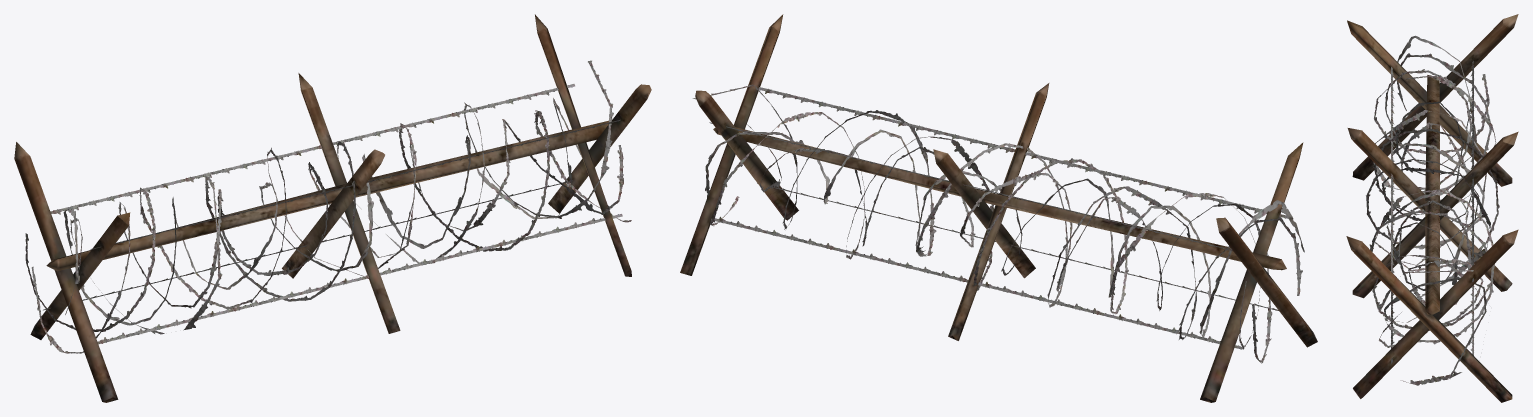
File: barbed-barrier.lod1.glb
The picture shows the model from 3 angles, left to right: view 1: azimuth 30°, elevation 25°; view 2: azimuth 150°, elevation 25°; view 3: azimuth 270°, elevation 25°; orthographic projection. The views are drawn at different scales.
Parts seen in each view (by area): view 1: object_0_object_0_0; view 2: object_0_object_0_0; view 3: object_0_object_0_0.
Boxes of the visible parts, x1=… form: object_0_object_0_0: x1=14, y1=14, x2=651, y2=402; object_0_object_0_0: x1=680, y1=14, x2=1317, y2=402; object_0_object_0_0: x1=1346, y1=14, x2=1518, y2=402.
Bounding box in the file's own units: 5.16 × 1.69 × 1.57.
Materials: 1 (1 with a texture image).
